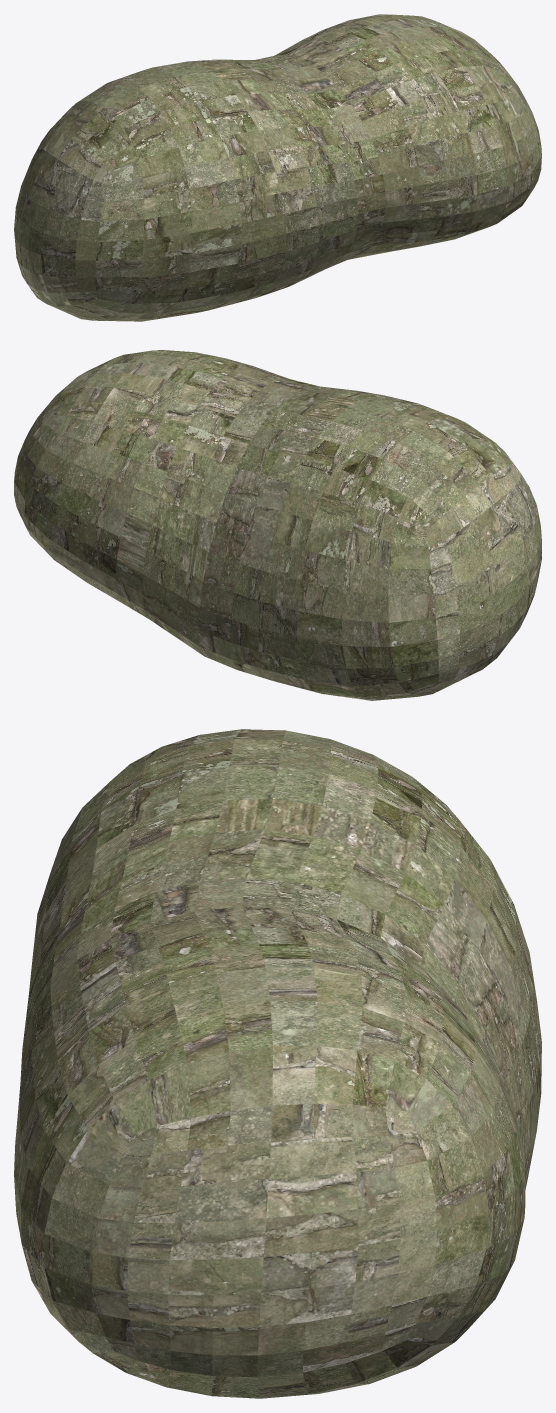
File: SM_Chateaux_06_0^.fbx
The picture shows the model from 3 angles, top to bottom: view 1: azimuth 30°, elevation 25°; view 2: azimuth 150°, elevation 25°; view 3: azimuth 270°, elevation 25°; orthographic projection. The views are drawn at different scales.
Visible parts, largest first — view 1: SM_Chateaux_06_0^; view 2: SM_Chateaux_06_0^; view 3: SM_Chateaux_06_0^.
Part boxes in pixels (<box>): SM_Chateaux_06_0^: <box>14,14,541,321</box>; SM_Chateaux_06_0^: <box>14,350,541,700</box>; SM_Chateaux_06_0^: <box>14,729,541,1398</box>.
Bounding box in the file's own units: 257 × 127 × 130.
